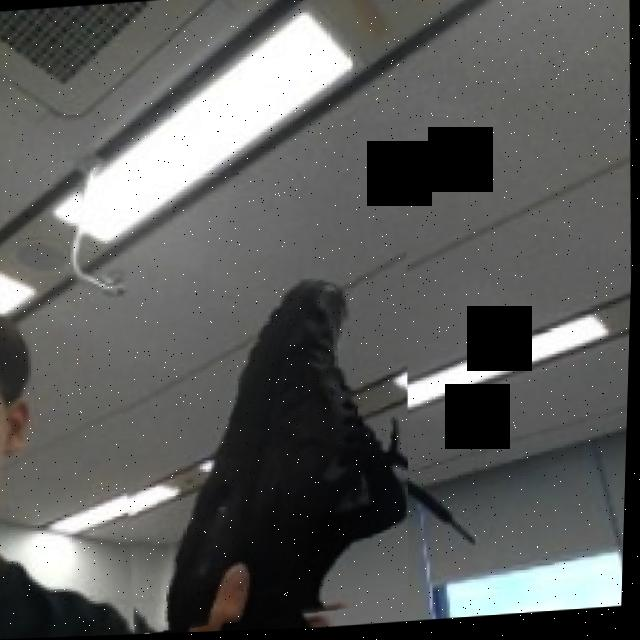shoe: (106, 251, 420, 636)
